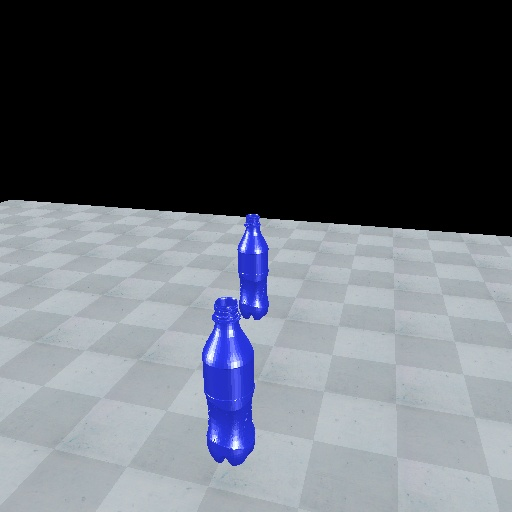bottle: (199, 296, 258, 467), (235, 211, 271, 323)
